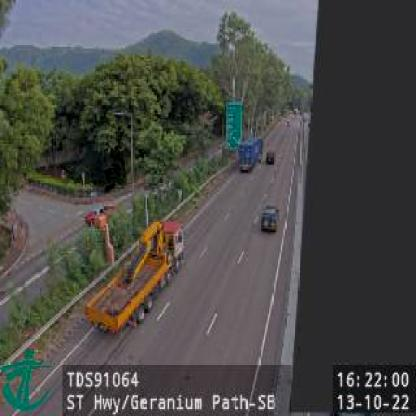Car: (260, 206, 278, 234), (264, 150, 275, 164)
Truck: (85, 218, 184, 335), (238, 136, 264, 176)
